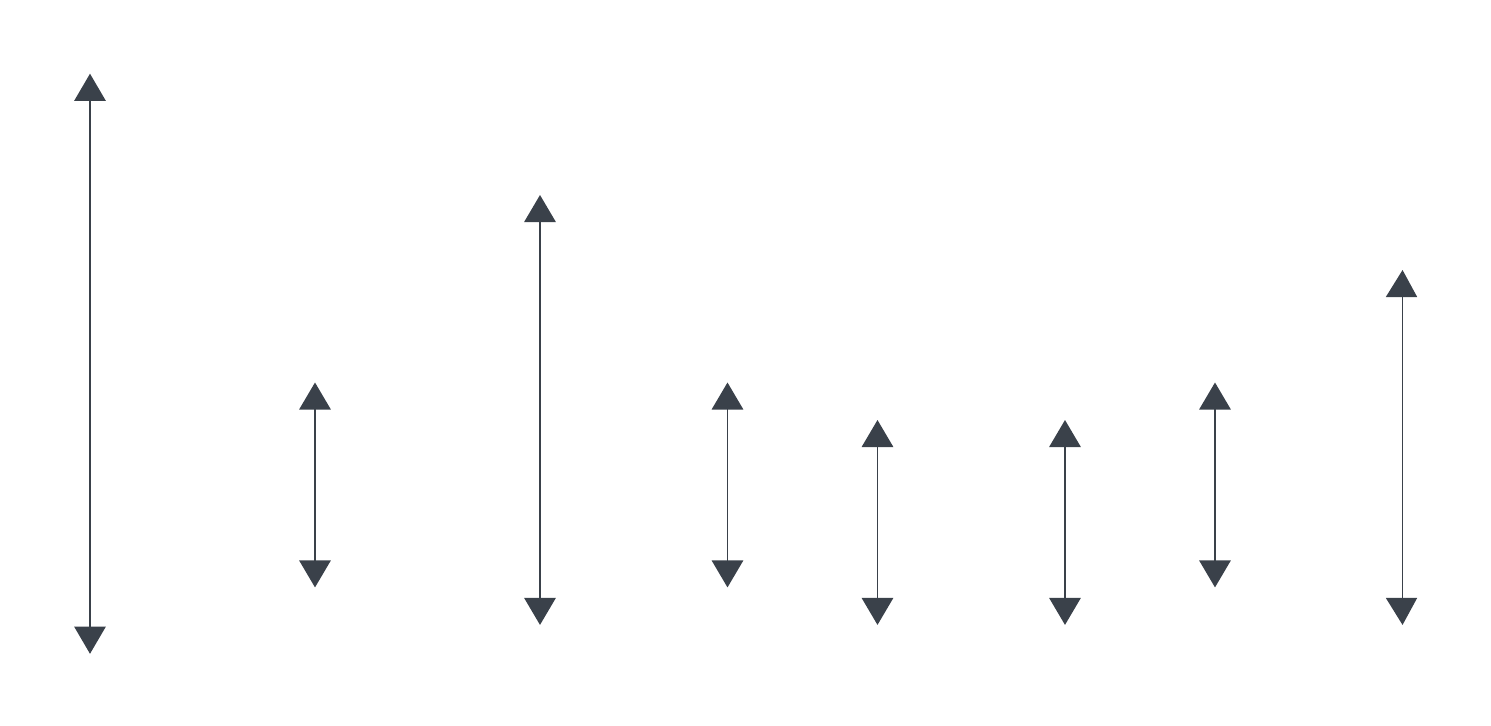bi_horizontal: (67, 64, 116, 654), (524, 192, 563, 628), (1384, 267, 1419, 624), (852, 416, 907, 626), (293, 379, 341, 591), (1197, 378, 1244, 590), (709, 370, 746, 591), (1048, 418, 1087, 624)
